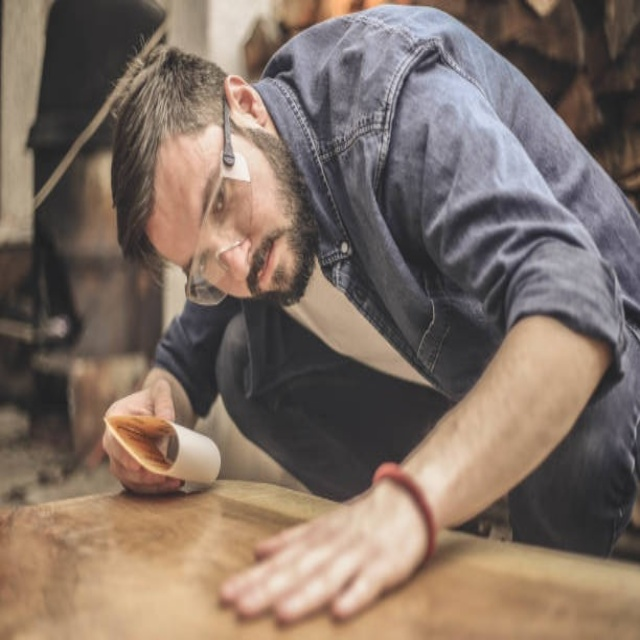Gafas: (185, 92, 252, 307)
Sin_guantes: (217, 463, 430, 632), (101, 381, 187, 495)
Sin_mascara: (249, 224, 301, 301)
